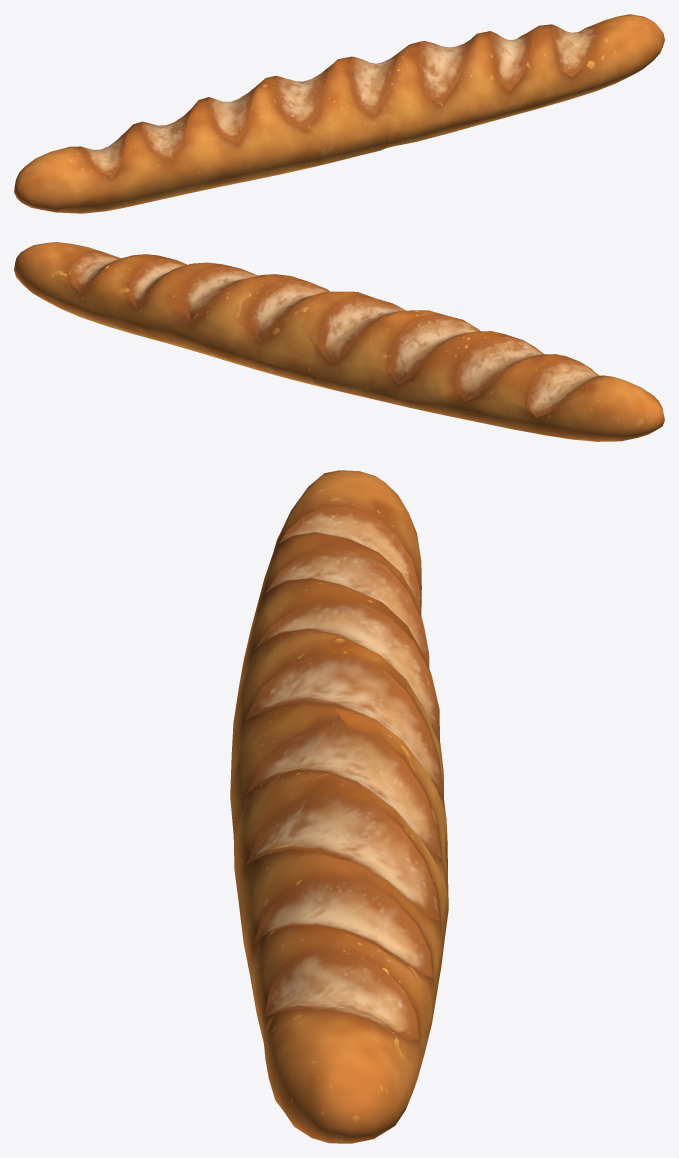
File: Baguette_Broken_TWO_Pieces.fbx
The picture shows the model from 3 angles, top to bottom: view 1: azimuth 30°, elevation 25°; view 2: azimuth 150°, elevation 25°; view 3: azimuth 270°, elevation 25°; orthographic projection. The views are drawn at different scales.
Parts seen in each view (by area): view 1: Baguette_TopHalf, Baguette_BottomHalf; view 2: Baguette_TopHalf, Baguette_BottomHalf; view 3: Baguette_BottomHalf, Baguette_TopHalf.
Boxes of the visible parts, x1=… form: Baguette_TopHalf: x1=14, y1=65, x2=388, y2=213; Baguette_BottomHalf: x1=330, y1=14, x2=664, y2=148; Baguette_TopHalf: x1=309, y1=291, x2=664, y2=441; Baguette_BottomHalf: x1=14, y1=242, x2=344, y2=387; Baguette_BottomHalf: x1=233, y1=709, x2=448, y2=1143; Baguette_TopHalf: x1=230, y1=470, x2=445, y2=833.
Bounding box in the file's own units: 5.33 × 0.7064 × 0.7818.
